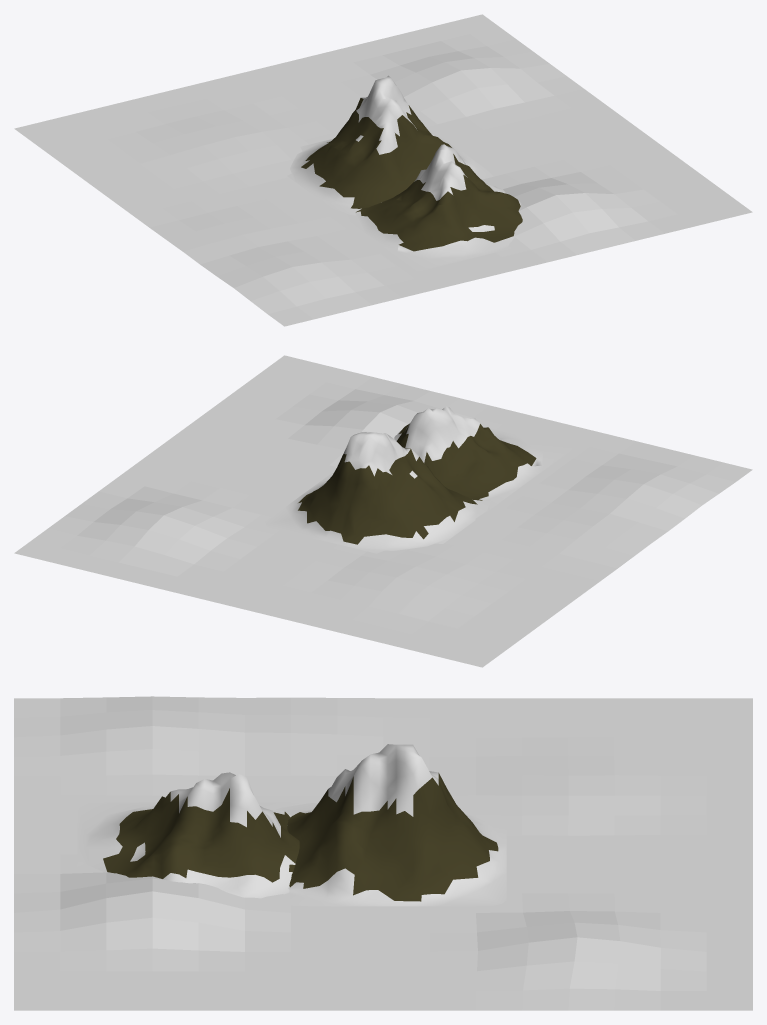
The model's file is snowmountain.glb.
The picture shows the model from 3 angles, top to bottom: view 1: azimuth 30°, elevation 25°; view 2: azimuth 150°, elevation 25°; view 3: azimuth 270°, elevation 25°; orthographic projection. The views are drawn at different scales.
Parts seen in each view (by area): view 1: Landscape; view 2: Landscape; view 3: Landscape.
Boxes of the visible parts, box(x1,y1,x2,y2) form: Landscape: box(14, 14, 752, 326); Landscape: box(14, 355, 752, 667); Landscape: box(14, 696, 752, 1010).
Size of the model in its own units: 6 by 1 by 6.
